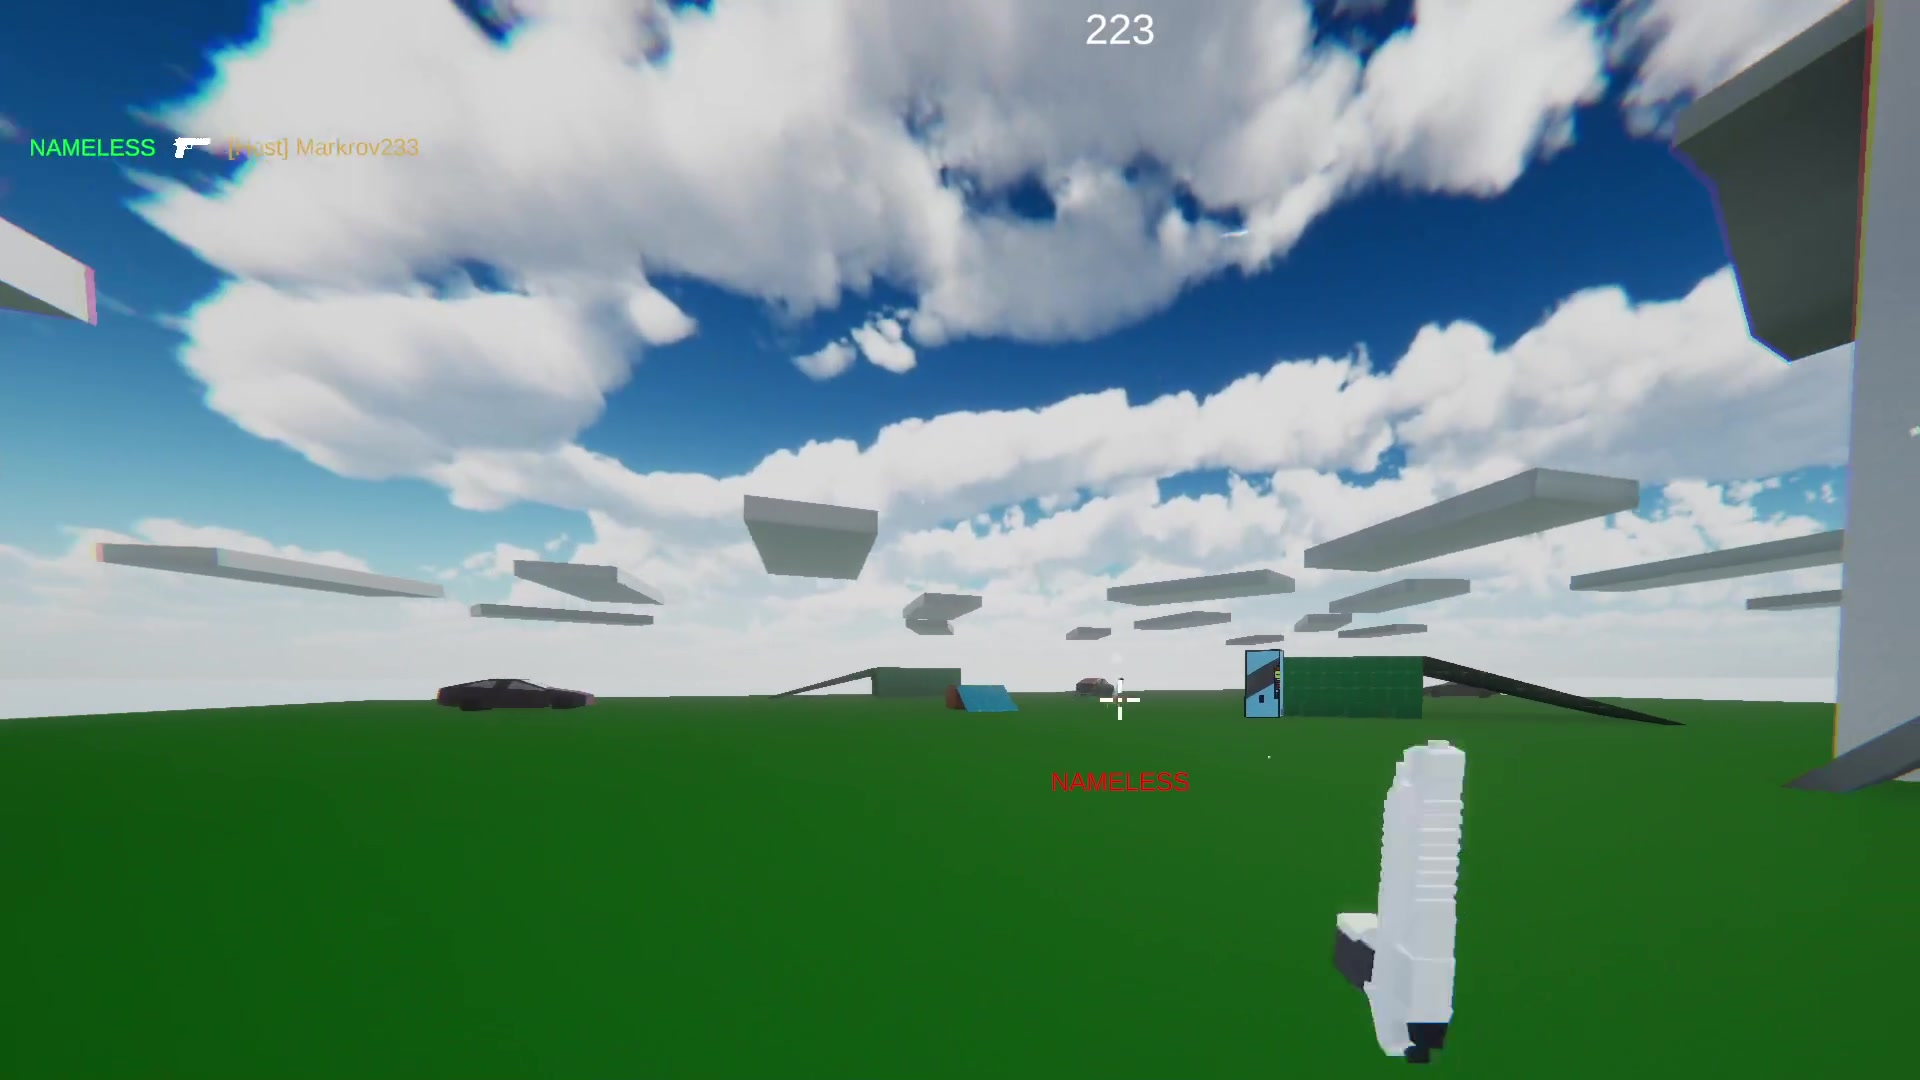human: (1111, 686, 1130, 718)
